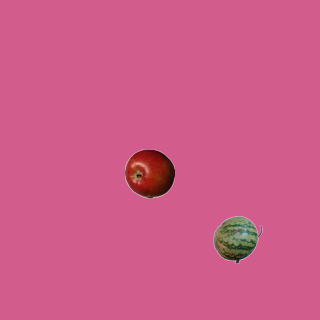Apple Braeburn: (124, 148, 174, 198)
Watermelon: (212, 214, 262, 264)
